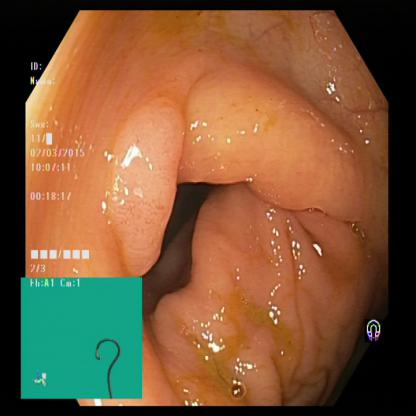Labels: (24, 62, 106, 279), (22, 277, 143, 396)
Polyps: (192, 77, 372, 220), (107, 106, 184, 270)
